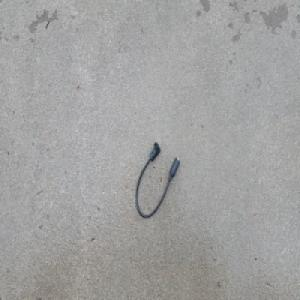Wire: (135, 138, 182, 220)
